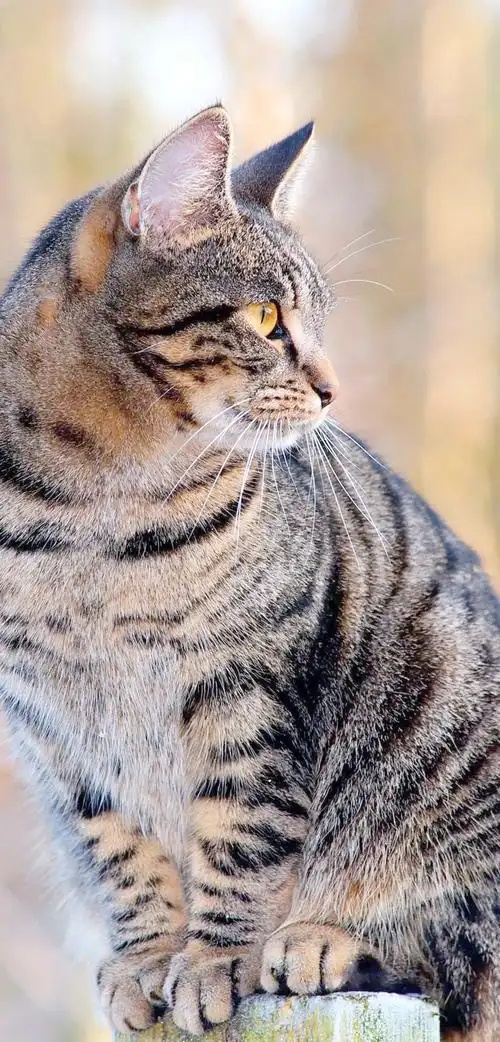狸花猫: (3, 437, 496, 1041)
